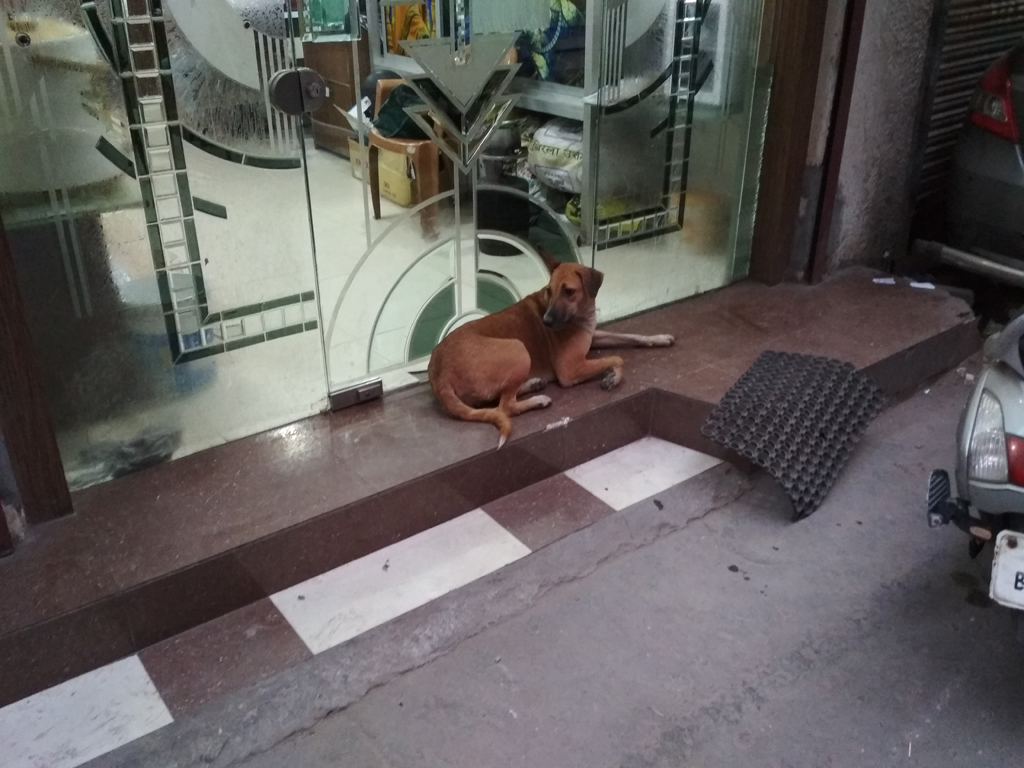dog: (427, 243, 675, 452)
